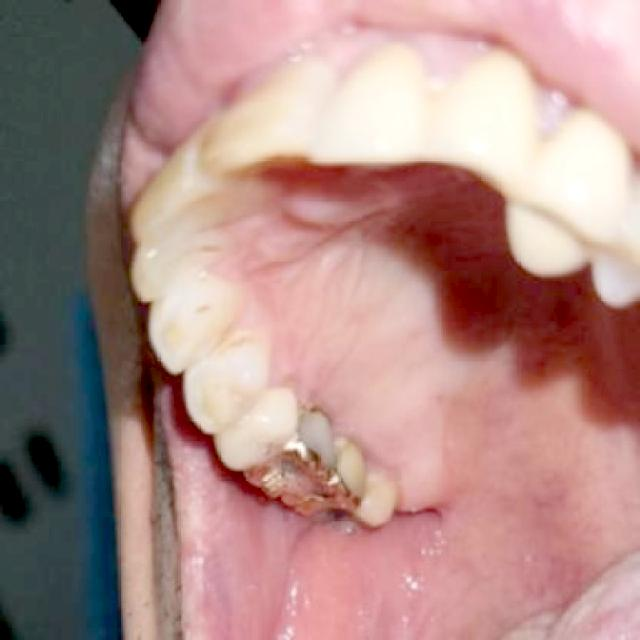Plaque: (188, 303, 220, 319)
